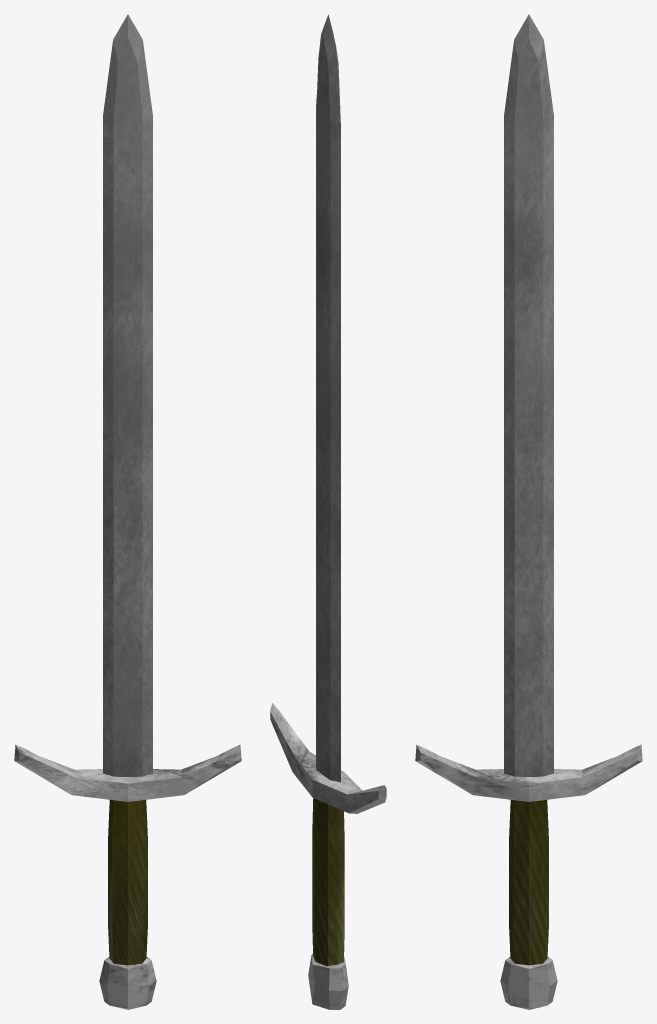
Rendered from Alpha_ShortSword.fbx.
3 renders of one model, left to right at view 1: azimuth 90°, elevation 25°; view 2: azimuth 210°, elevation 25°; view 3: azimuth 270°, elevation 25°, orthographic.
Visible parts, largest first — view 1: Sword; view 2: Sword; view 3: Sword.
Part boxes in pixels (<box>): Sword: <box>14,14,241,1009</box>; Sword: <box>270,14,386,1009</box>; Sword: <box>415,14,642,1009</box>.
Bounding box in the file's own units: 4.88 × 144 × 29.83.
3 materials, 3 textured.
